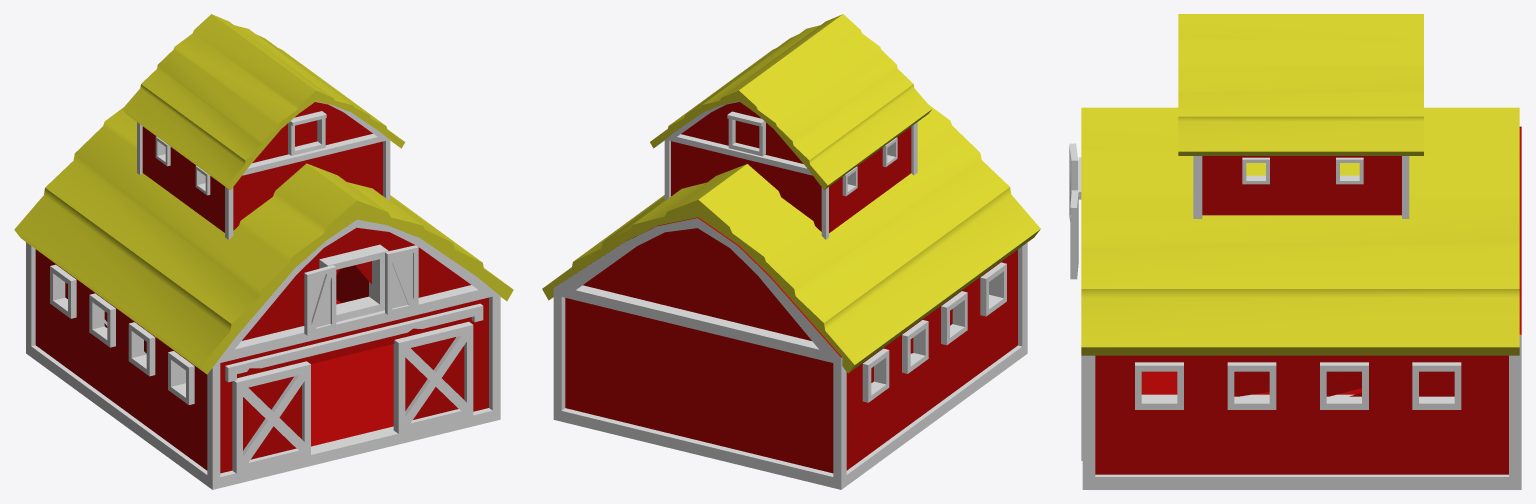
File: monitorLoftedBarn.glb
3 renders of one model, left to right at view 1: azimuth 30°, elevation 25°; view 2: azimuth 150°, elevation 25°; view 3: azimuth 270°, elevation 25°, orthographic. The views are drawn at different scales.
Parts seen in each view (by area): view 1: Object_17, Object_18, Object_12, Object_13; view 2: Object_12, Object_17, Object_18; view 3: Object_17, Object_12, Object_18.
Part boxes in pixels (bbox=[...]): Object_17: bbox=[14, 14, 513, 374]; Object_18: bbox=[26, 101, 500, 489]; Object_12: bbox=[35, 102, 488, 473]; Object_13: bbox=[243, 337, 464, 459]; Object_12: bbox=[565, 102, 1017, 473]; Object_17: bbox=[542, 14, 1040, 373]; Object_18: bbox=[553, 101, 1027, 489]; Object_17: bbox=[1081, 14, 1519, 355]; Object_12: bbox=[1095, 126, 1521, 474]; Object_18: bbox=[1069, 143, 1521, 489].
Bounding box in the file's own units: 2.85 × 2.91 × 3.03.
